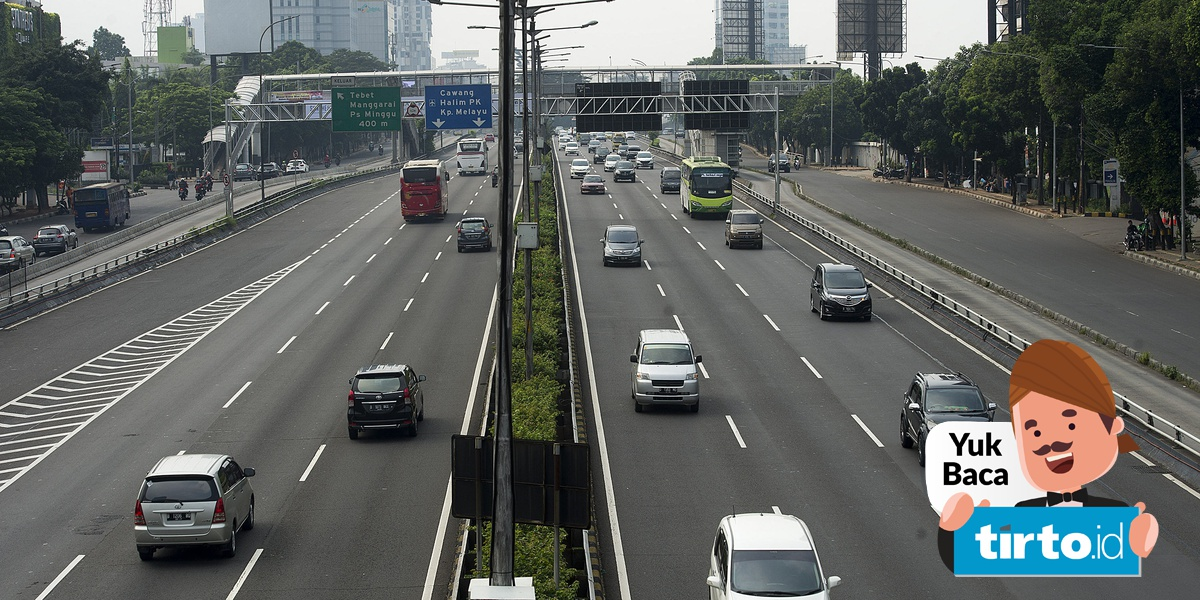car: (133, 452, 258, 561), (707, 508, 839, 600), (902, 372, 993, 465), (629, 328, 700, 417), (349, 365, 426, 442), (810, 261, 870, 327), (681, 156, 733, 219), (401, 161, 451, 222), (76, 183, 131, 230), (603, 223, 643, 265), (727, 210, 763, 252), (457, 138, 490, 178), (34, 225, 73, 258), (1, 237, 39, 270), (458, 217, 494, 251), (659, 166, 683, 195), (580, 173, 608, 197), (612, 159, 637, 183), (768, 153, 791, 175), (257, 163, 281, 181), (234, 163, 256, 182), (570, 159, 590, 179), (286, 159, 310, 175), (635, 151, 653, 171), (611, 132, 627, 152), (605, 154, 621, 173), (595, 145, 610, 163), (565, 142, 580, 157), (627, 145, 641, 161), (617, 144, 629, 158)
motorbike: (1124, 219, 1145, 251), (178, 179, 190, 199), (206, 172, 215, 193), (196, 180, 203, 202), (795, 156, 801, 172), (325, 154, 331, 169), (335, 152, 340, 165), (369, 142, 374, 152), (379, 145, 383, 155)
